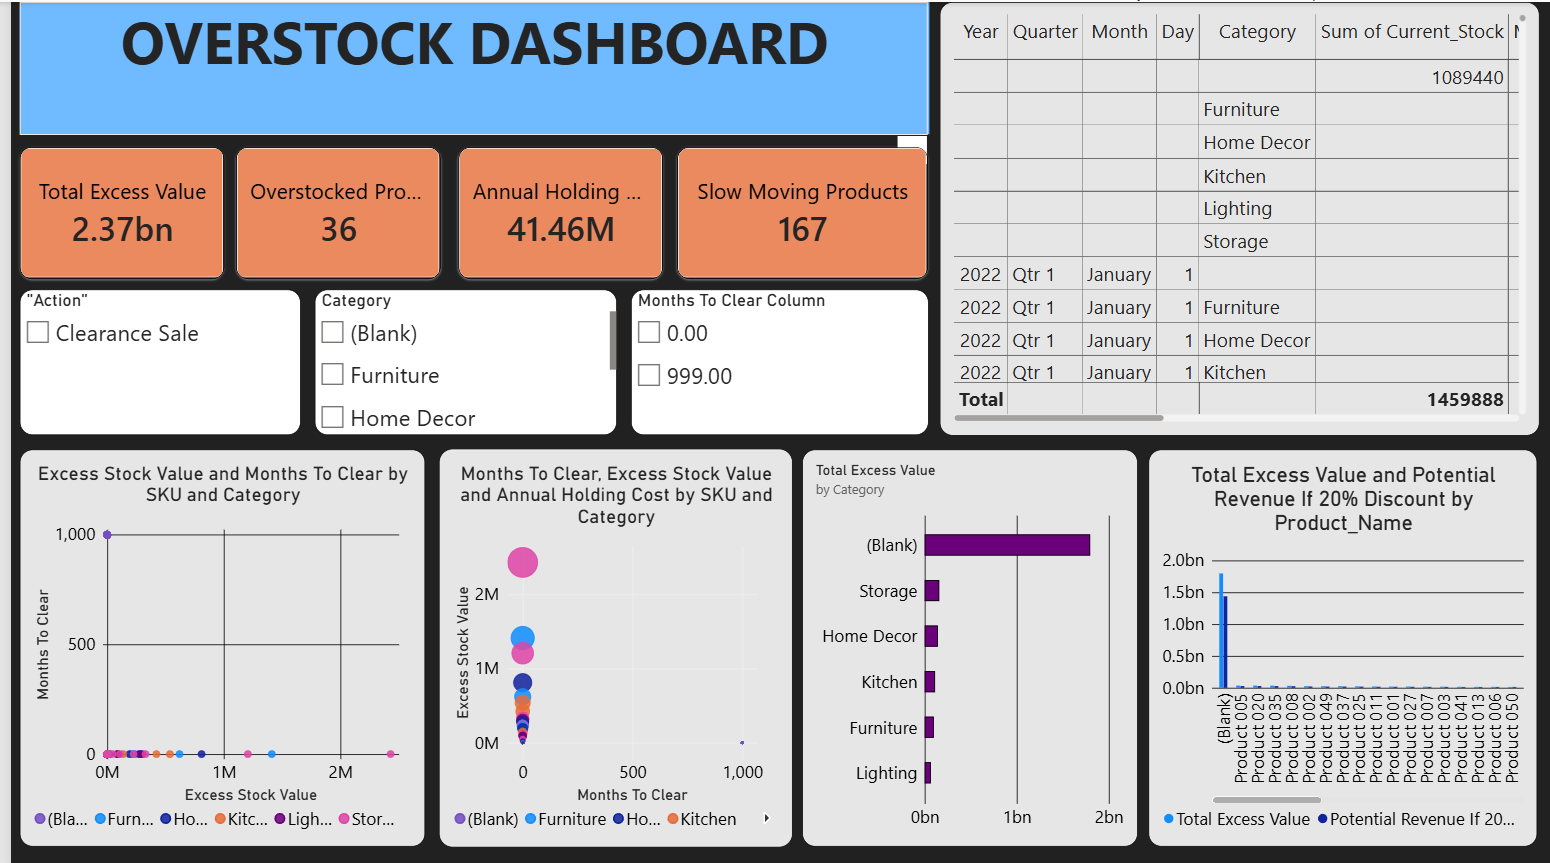

What the dashboard file says about the page in this screenshot:
{"tool":"powerbi","page":{"name":"Page 7","canvas":[1920,1080],"ordinal":6},"visuals":[{"type":"textbox","box":[10.3,0,1134.1,164.7],"z":0},{"type":"cardVisual","fields":{"Data":["_Measures.Overstocked Products"]},"box":[279.9,181.1,255.2,164.7],"z":4},{"type":"cardVisual","fields":{"Data":["_Measures.Annual Holding Cost"]},"box":[557.8,181.1,255.2,164.7],"z":5},{"type":"cardVisual","fields":{"Data":["_Measures.Slow Moving Products"]},"box":[831.6,181.1,312.9,164.7],"z":6},{"type":"tableEx","fields":{"Values":["sku_master (2).Launch_Date.Variation.Date Hierarchy.Year","sku_master (2).Launch_Date.Variation.Date Hierarchy.Quarter","sku_master (2).Launch_Date.Variation.Date Hierarchy.Month","sku_master (2).Launch_Date.Variation.Date Hierarchy.Day","sku_master (2).Category","Sum(inventory_snapshots.Current_Stock)","_Measures.Months To Clear","_Measures.Excess Stock Value","_Measures.Excess Stock Units","_Measures.Avg Stock Level (6M)","_Measures.Monthly Sales Avg","calendar (2).\"Action\""]},"box":[1158.1,0,748.3,540.7],"z":7},{"type":"barChart","fields":{"Category":["sku_master (2).Category"],"Y":["_Measures.Total Excess Value"]},"box":[987.2,558.1,418.6,495.4],"z":8},{"type":"scatterChart","fields":{"Category":["inventory_snapshots.SKU"],"Series":["sku_master (2).Category"],"Size":["_Measures.Annual Holding Cost"],"X":["_Measures.Months To Clear"],"Y":["_Measures.Excess Stock Value"]},"box":[535.5,558.1,439.5,495.4],"z":9},{"type":"scatterChart","fields":{"Category":["inventory_snapshots.SKU"],"Series":["sku_master (2).Category"],"X":["_Measures.Excess Stock Value"],"Y":["_Measures.Months To Clear"]},"box":[10.5,558.1,505.8,495.4],"z":10},{"type":"clusteredColumnChart","fields":{"Category":["sku_master (2).Product_Name"],"Y":["_Measures.Total Excess Value","_Measures.Potential Revenue If 20% Discount"]},"box":[1418,558.1,484.9,495.4],"z":11},{"type":"slicer","fields":{"Values":["sku_master (2).Category"]},"box":[378.5,359.3,376.7,181.4],"z":12},{"type":"slicer","fields":{"Values":["inventory_snapshots.Months To Clear Column"]},"box":[772.7,359.3,371.5,181.4],"z":13},{"type":"slicer","fields":{"Values":["calendar (2).\"Action\""]},"box":[10.5,359.3,350.6,181.4],"z":14},{"type":"cardVisual","fields":{"Data":["_Measures.Total Excess Value"]},"box":[10.5,181.4,255.2,164.7],"z":15}]}

Visuals, with their boxes in screenshot pixels (x1, y1, x2, y2), scaled from the page's 1920x1080 canvas onto the 1550x863 screenshot:
textbox: {"left": 8, "top": 0, "right": 924, "bottom": 132}
cardVisual - _Measures.Overstocked Products: {"left": 226, "top": 145, "right": 432, "bottom": 276}
cardVisual - _Measures.Annual Holding Cost: {"left": 450, "top": 145, "right": 656, "bottom": 276}
cardVisual - _Measures.Slow Moving Products: {"left": 671, "top": 145, "right": 924, "bottom": 276}
tableEx - sku_master (2).Launch_Date.Variation.Date Hierarchy.Year x sku_master (2).Launch_Date.Variation.Date Hierarchy.Quarter: {"left": 935, "top": 0, "right": 1539, "bottom": 432}
barChart - sku_master (2).Category x _Measures.Total Excess Value: {"left": 797, "top": 446, "right": 1135, "bottom": 842}
scatterChart - inventory_snapshots.SKU x sku_master (2).Category: {"left": 432, "top": 446, "right": 787, "bottom": 842}
scatterChart - inventory_snapshots.SKU x sku_master (2).Category: {"left": 8, "top": 446, "right": 417, "bottom": 842}
clusteredColumnChart - sku_master (2).Product_Name x _Measures.Total Excess Value: {"left": 1145, "top": 446, "right": 1536, "bottom": 842}
slicer - sku_master (2).Category: {"left": 306, "top": 287, "right": 610, "bottom": 432}
slicer - inventory_snapshots.Months To Clear Column: {"left": 624, "top": 287, "right": 924, "bottom": 432}
slicer - calendar (2)."Action": {"left": 8, "top": 287, "right": 292, "bottom": 432}
cardVisual - _Measures.Total Excess Value: {"left": 8, "top": 145, "right": 214, "bottom": 277}
